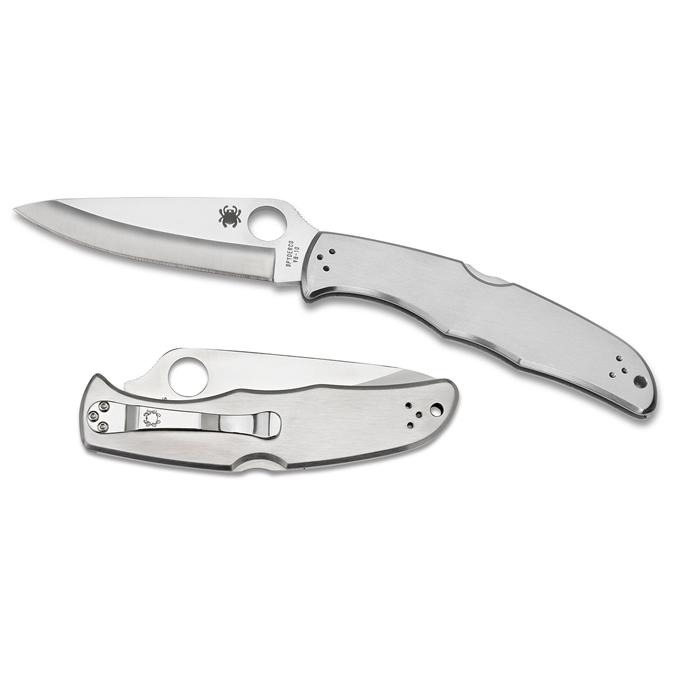knife: (10, 176, 685, 424), (67, 334, 458, 491)
